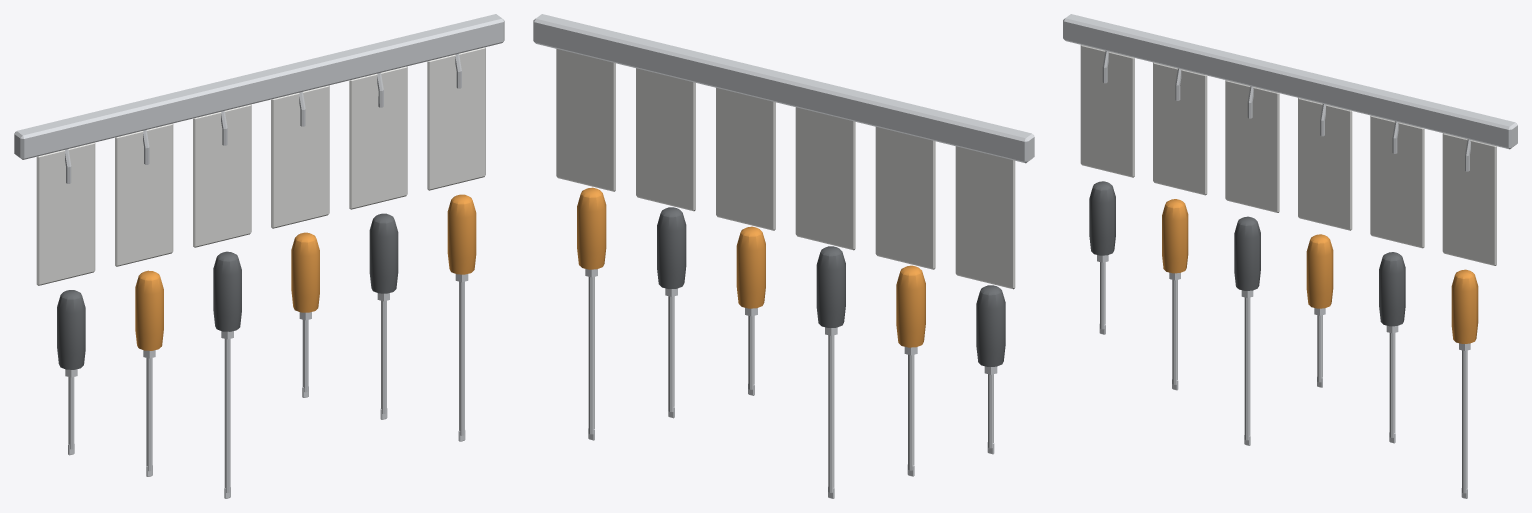
3 views of the same model, side by side, from view 1: azimuth 30°, elevation 25°; view 2: azimuth 150°, elevation 25°; view 3: azimuth 330°, elevation 25° (orthographic). The views are drawn at different scales.
Visible parts, largest first — view 1: screwdriver-set-on-hooks; view 2: screwdriver-set-on-hooks; view 3: screwdriver-set-on-hooks.
Part boxes in pixels (x1,y1,x2,y2): screwdriver-set-on-hooks: (14,14,504,498); screwdriver-set-on-hooks: (533,14,1034,498); screwdriver-set-on-hooks: (1063,14,1517,498).
Size of the model in its own units: 0.62 by 0.5 by 0.0412.
